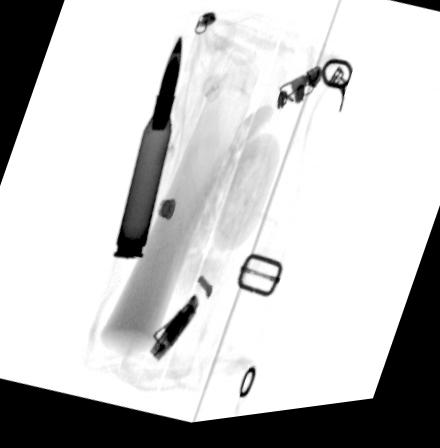Bullet: (111, 40, 182, 263)
